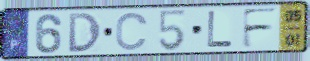5: (158, 8, 188, 53)
6: (34, 12, 64, 55)
C: (114, 11, 151, 52)
D: (67, 11, 103, 54)
F: (240, 6, 281, 50)
L: (206, 10, 235, 49)
